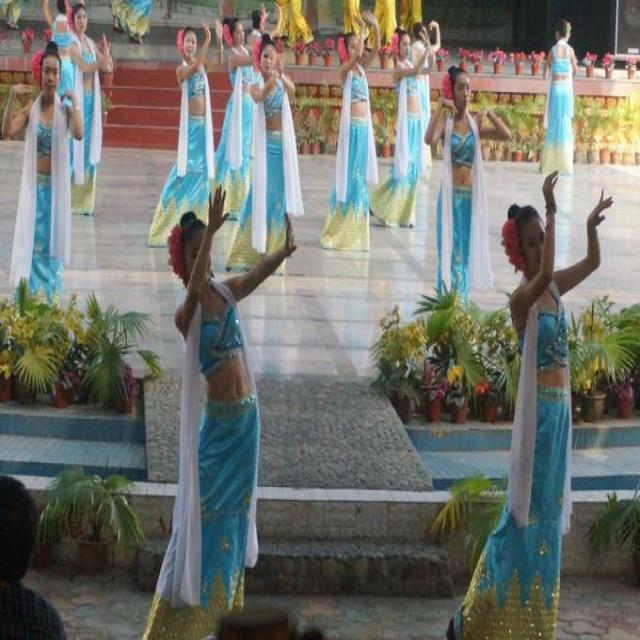non-fight: (446, 169, 613, 640), (142, 204, 298, 640)
